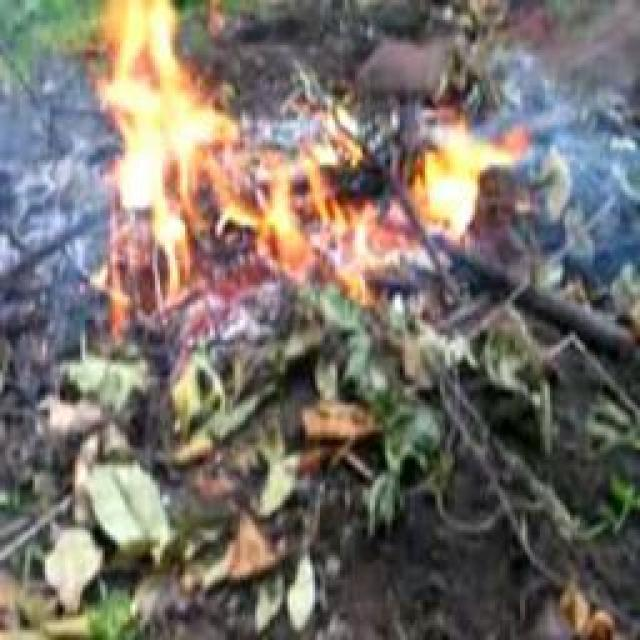Fire: (98, 9, 242, 311), (240, 109, 477, 274)
